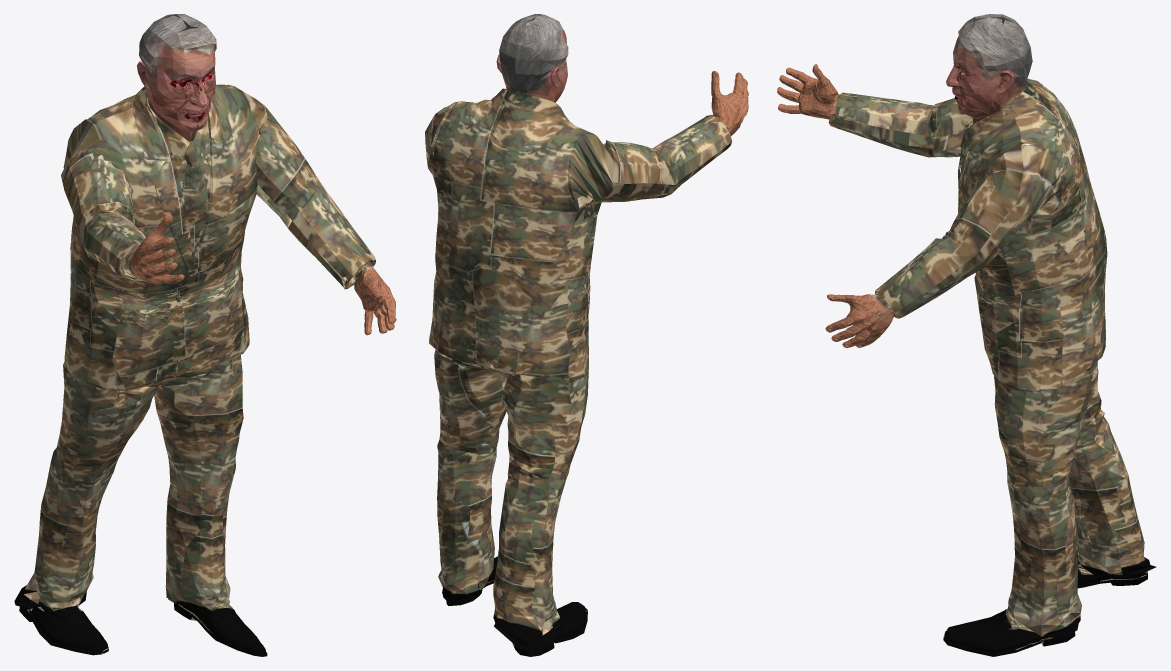
File: zombie_000044.obj
The picture shows the model from 3 angles, left to right: view 1: azimuth 30°, elevation 25°; view 2: azimuth 150°, elevation 25°; view 3: azimuth 270°, elevation 25°; orthographic projection. The views are drawn at different scales.
Visible parts, largest first — view 1: Suit_coat_orig_9___De, objGeo_Hea_orig_9___D; view 2: Suit_coat_orig_9___De, objGeo_Hea_orig_9___D; view 3: Suit_coat_orig_9___De, objGeo_Hea_orig_9___D.
Boxes of the visible parts, x1,y1,x2,y2 form: Suit_coat_orig_9___De: [14, 84, 396, 656]; objGeo_Hea_orig_9___D: [137, 14, 216, 138]; Suit_coat_orig_9___De: [425, 71, 748, 656]; objGeo_Hea_orig_9___D: [496, 14, 568, 102]; Suit_coat_orig_9___De: [777, 64, 1156, 656]; objGeo_Hea_orig_9___D: [946, 14, 1032, 123].
Bounding box in the file's own units: 0.8671 × 1.88 × 1.07.
